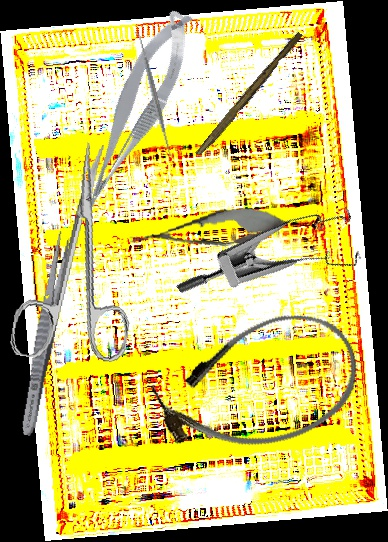Cannula: (141, 295, 375, 476)
Dressing Forceps: (17, 229, 74, 438)
Iris Scissors: (8, 135, 157, 372)
Micro Scissor: (54, 2, 213, 222), (126, 200, 292, 261)
Scalpel Handle: (195, 29, 304, 160)
Spatula Surgical: (131, 29, 177, 159)
Speculum: (174, 175, 378, 359)
